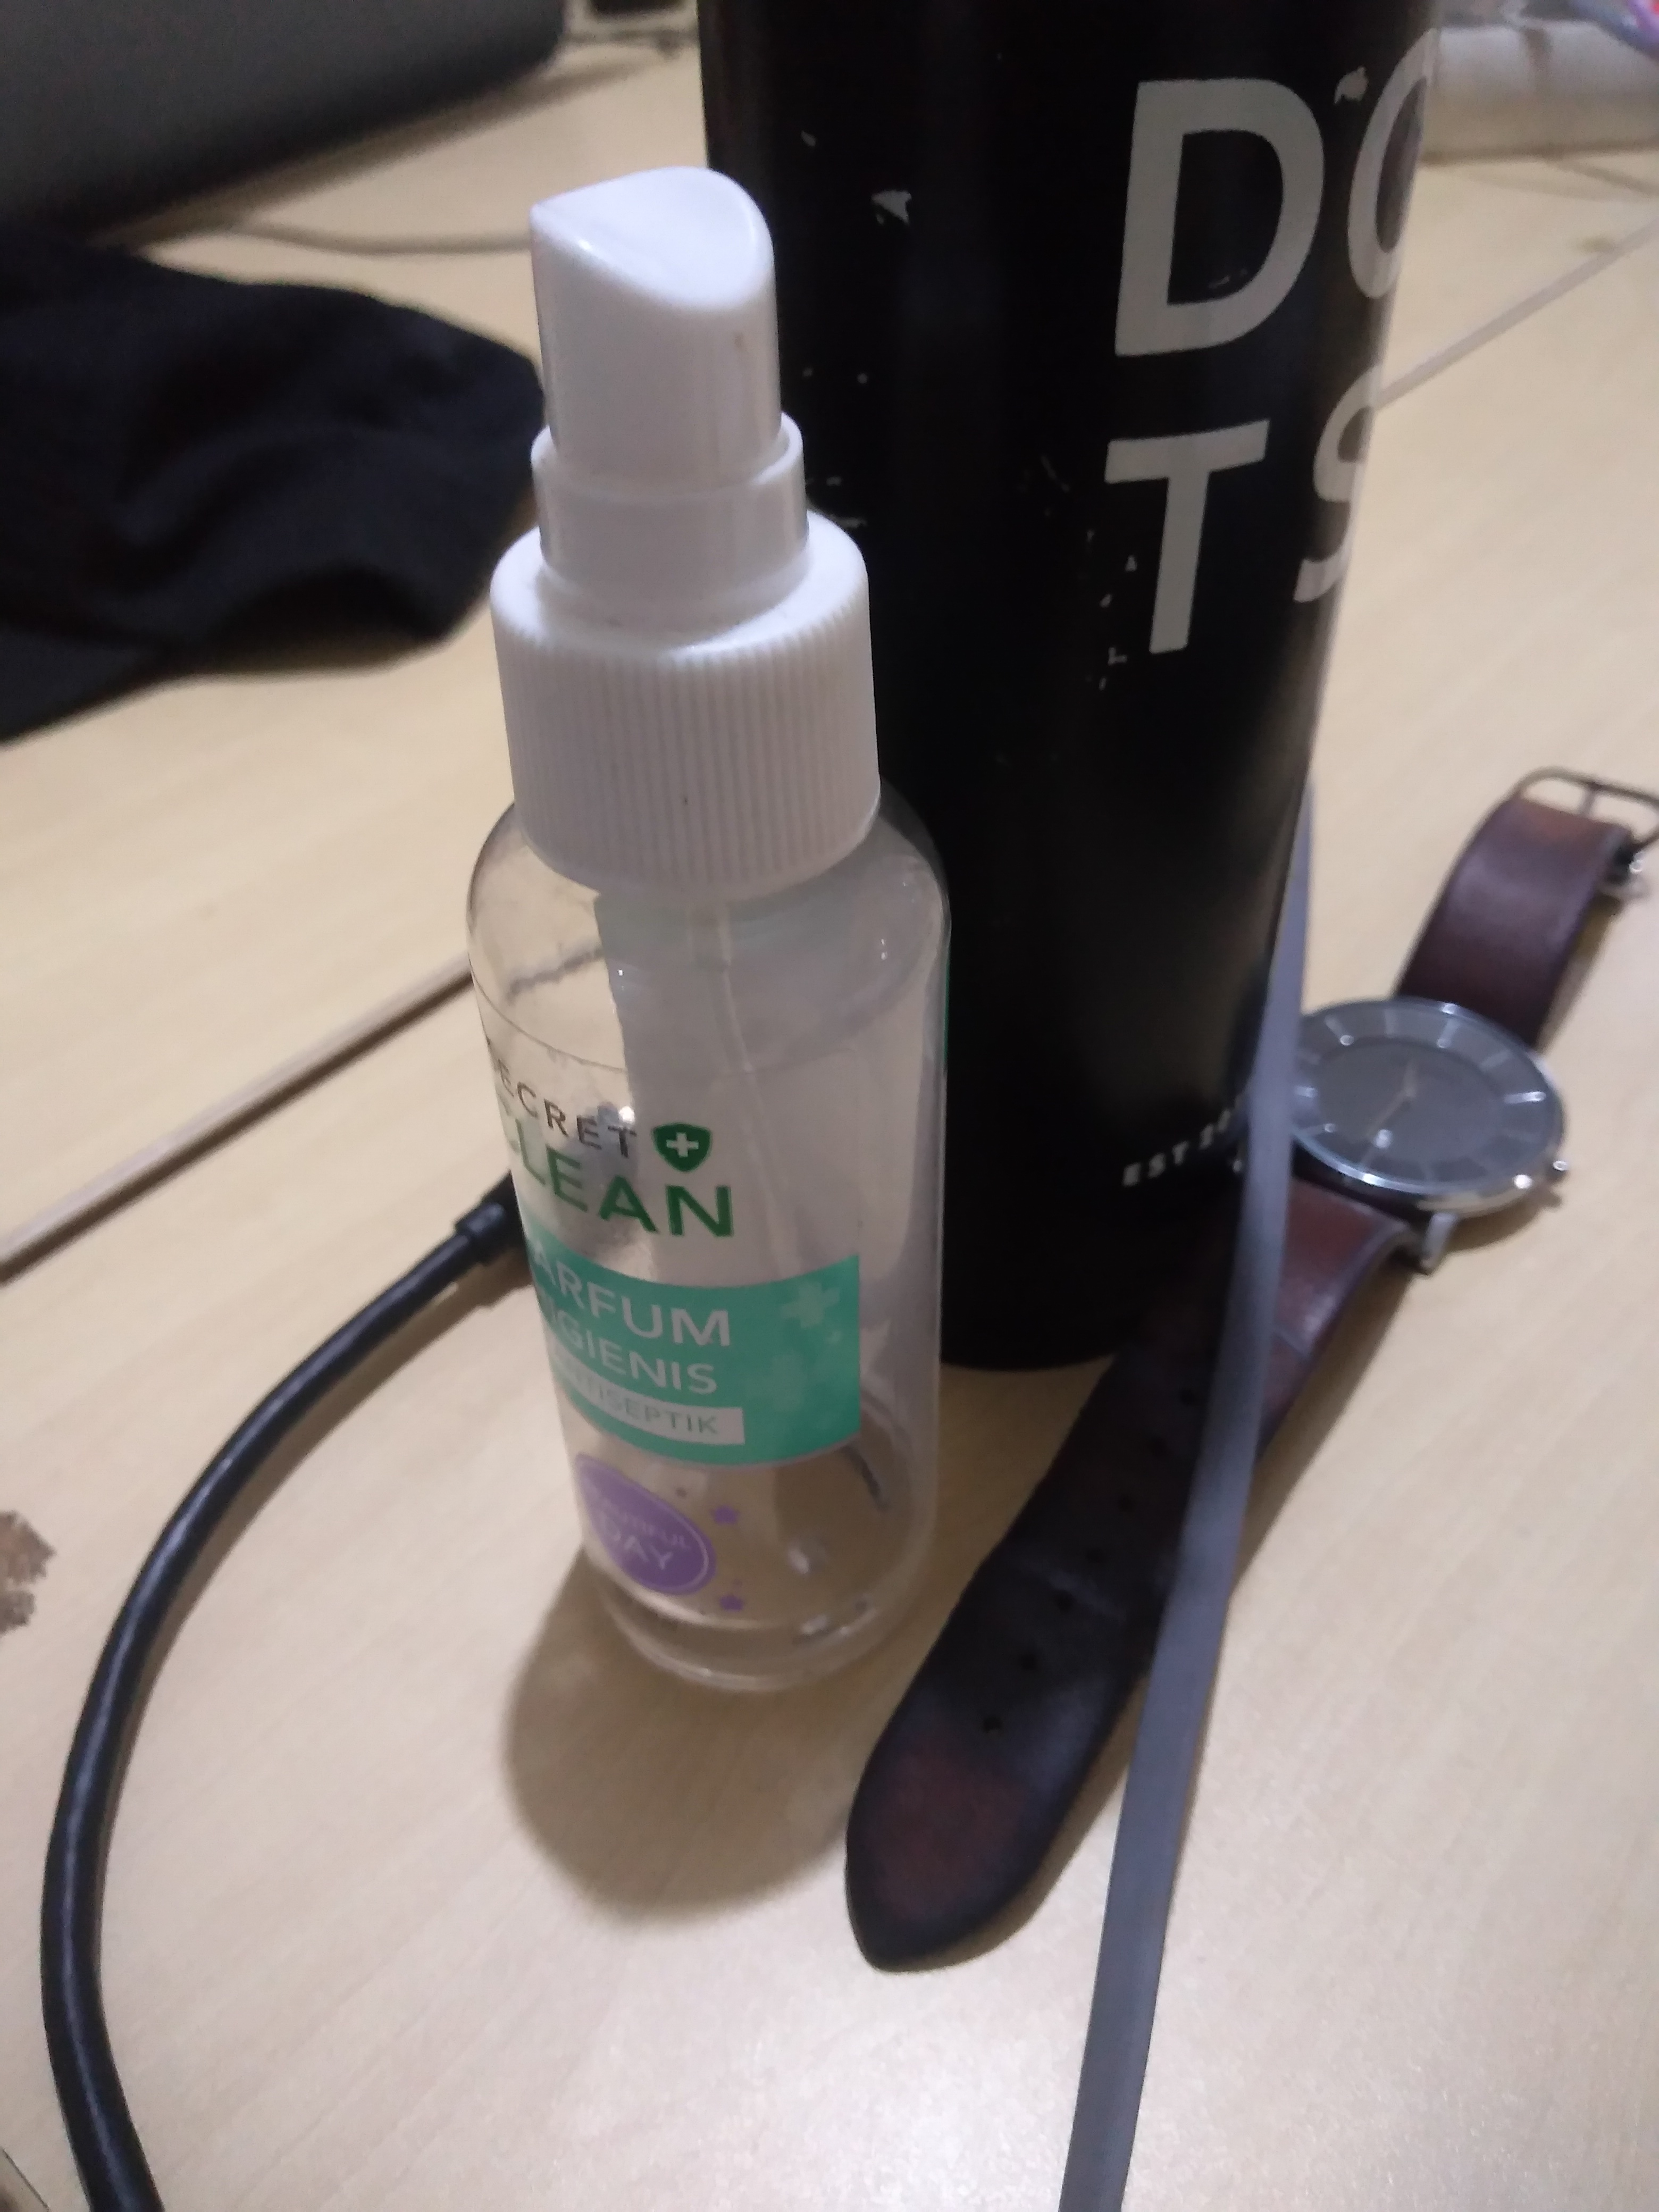hand sanitizer: (382, 141, 1002, 1702)
